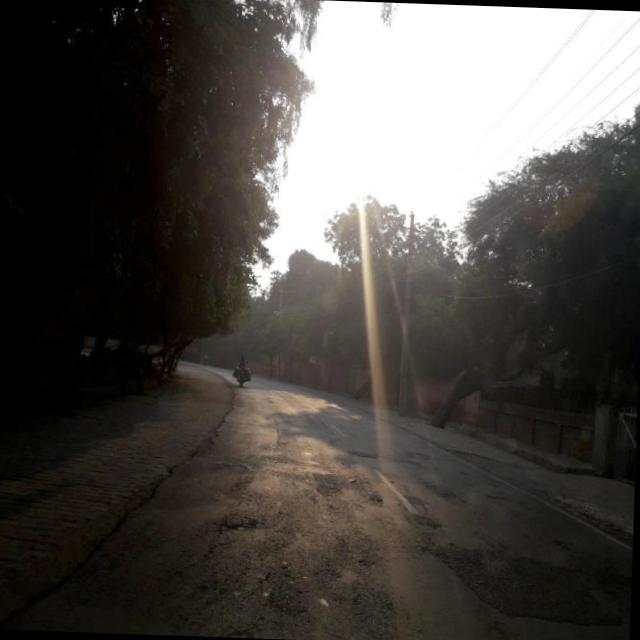pothole: (159, 396, 244, 478)
